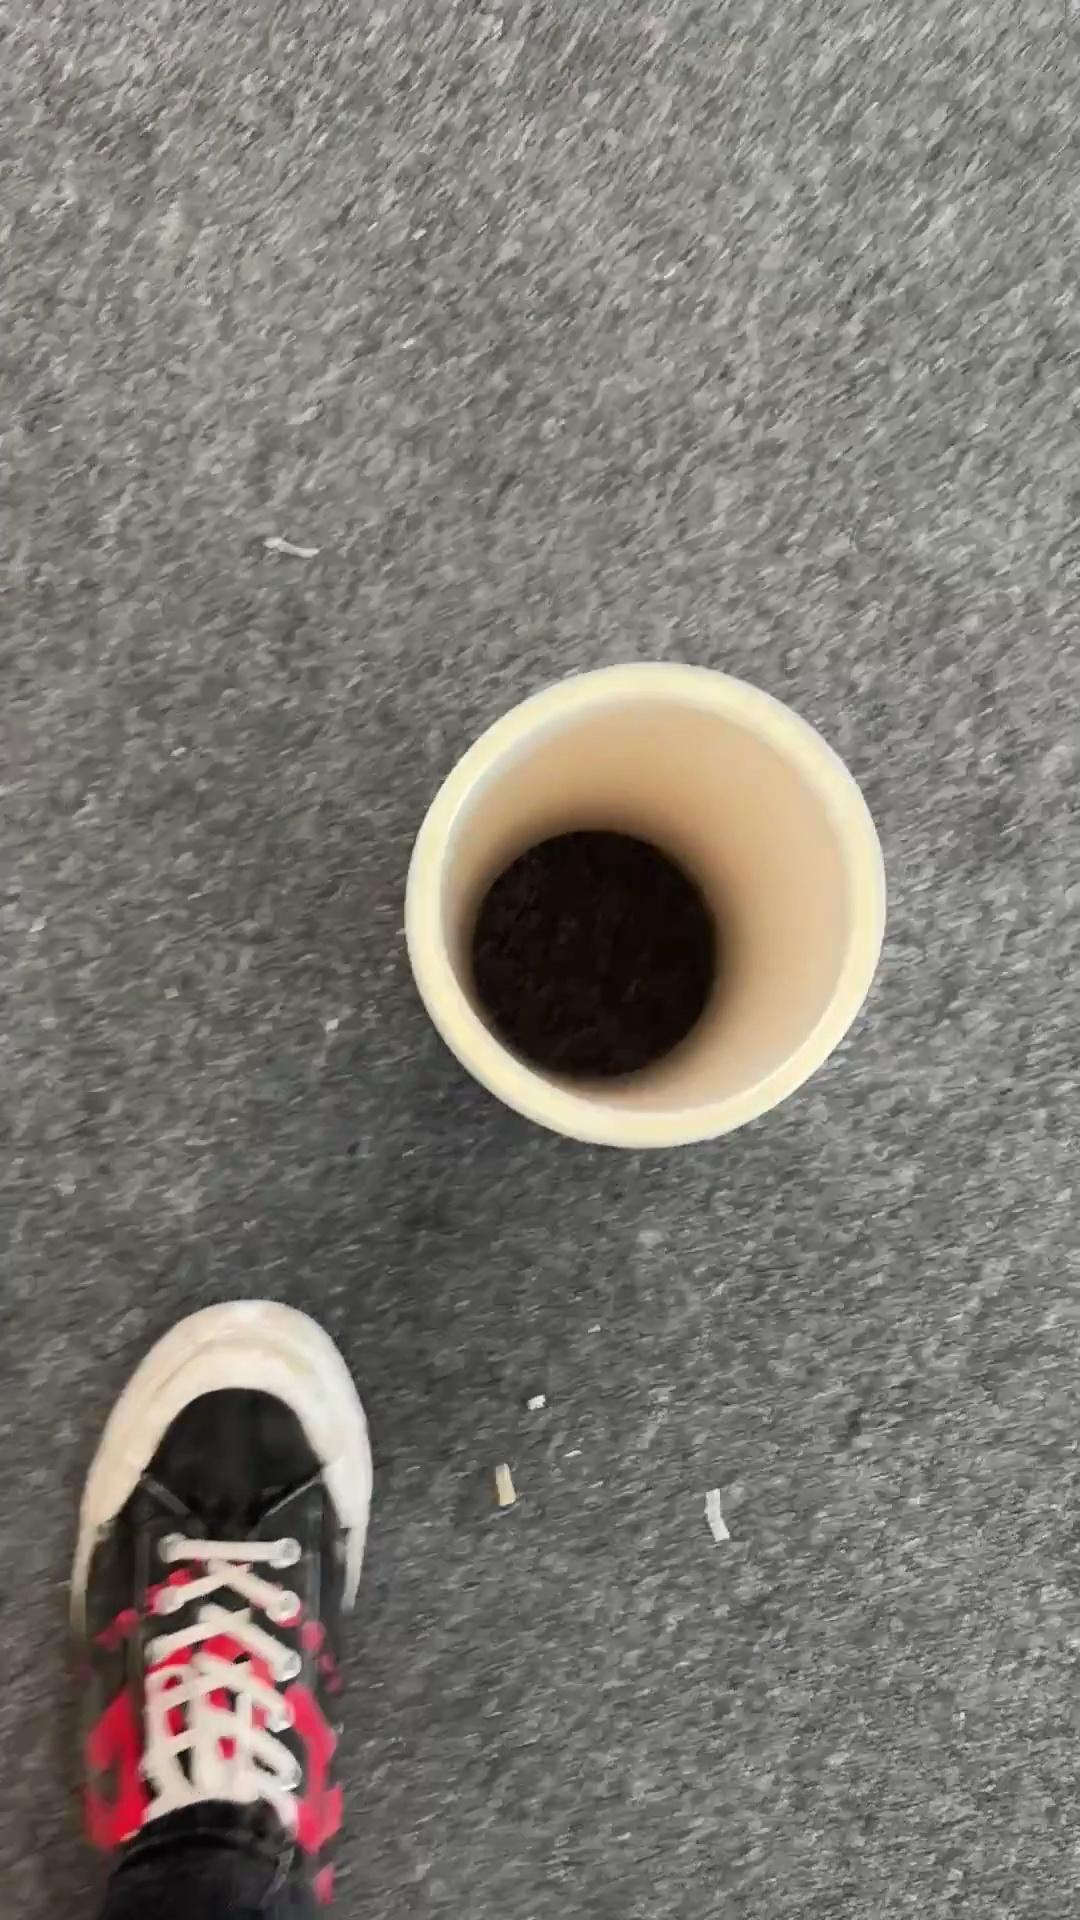CORAL: (400, 655, 887, 1153)
